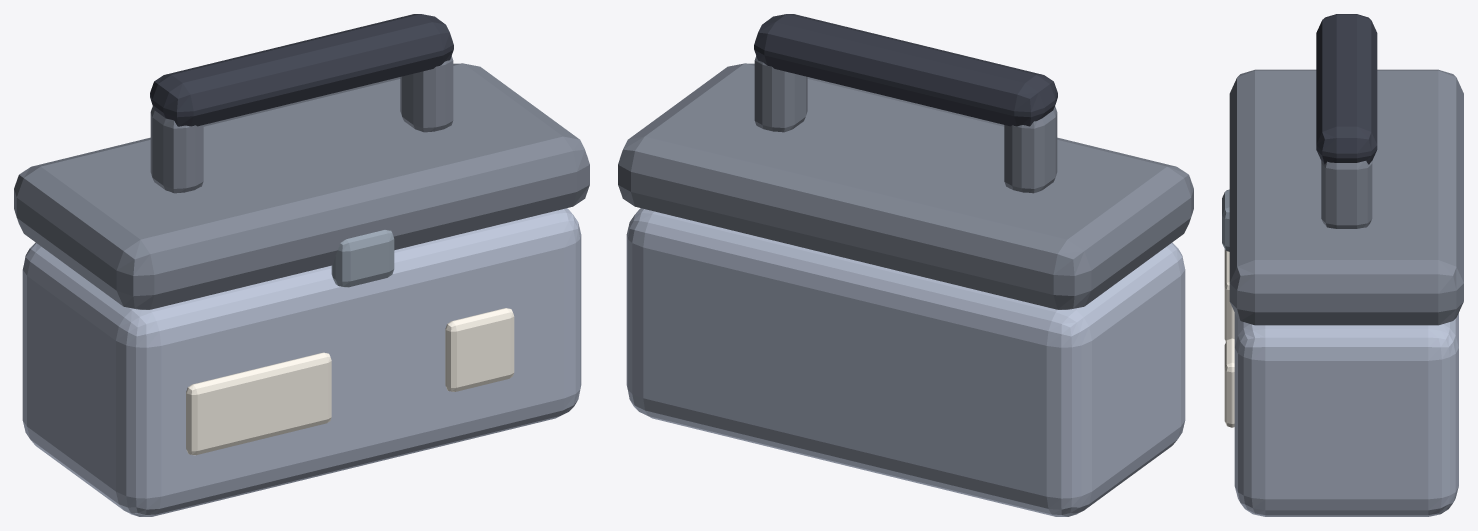
File: tool.glb
3 renders of one model, left to right at view 1: azimuth 30°, elevation 25°; view 2: azimuth 150°, elevation 25°; view 3: azimuth 270°, elevation 25°, orthographic. The views are drawn at different scales.
Visible parts, largest first — view 1: tool; view 2: tool; view 3: tool.
Part boxes in pixels (x1=…): tool: x1=14, y1=14, x2=589, y2=516; tool: x1=618, y1=14, x2=1193, y2=516; tool: x1=1222, y1=14, x2=1463, y2=516.
Size of the model in its own units: 0.98 by 0.765 by 0.475.
